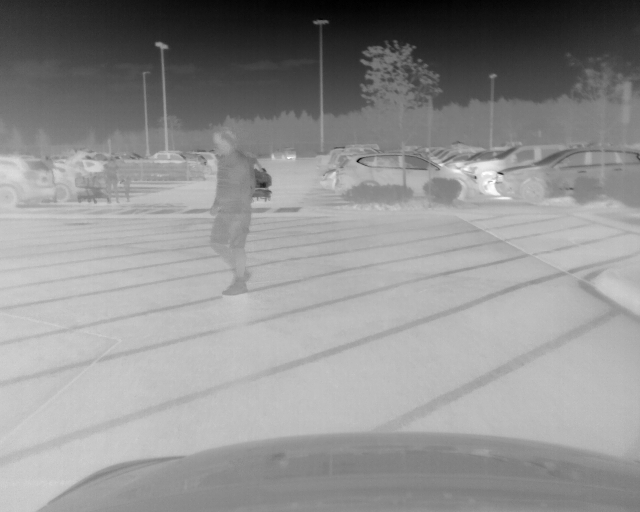car: (493, 144, 640, 205), (337, 153, 476, 203), (460, 143, 570, 196), (1, 154, 58, 209), (54, 162, 91, 202), (149, 150, 206, 168), (270, 146, 298, 162), (201, 152, 218, 173)
people: (211, 130, 256, 297), (245, 152, 267, 199), (104, 154, 119, 203), (118, 157, 133, 202)
